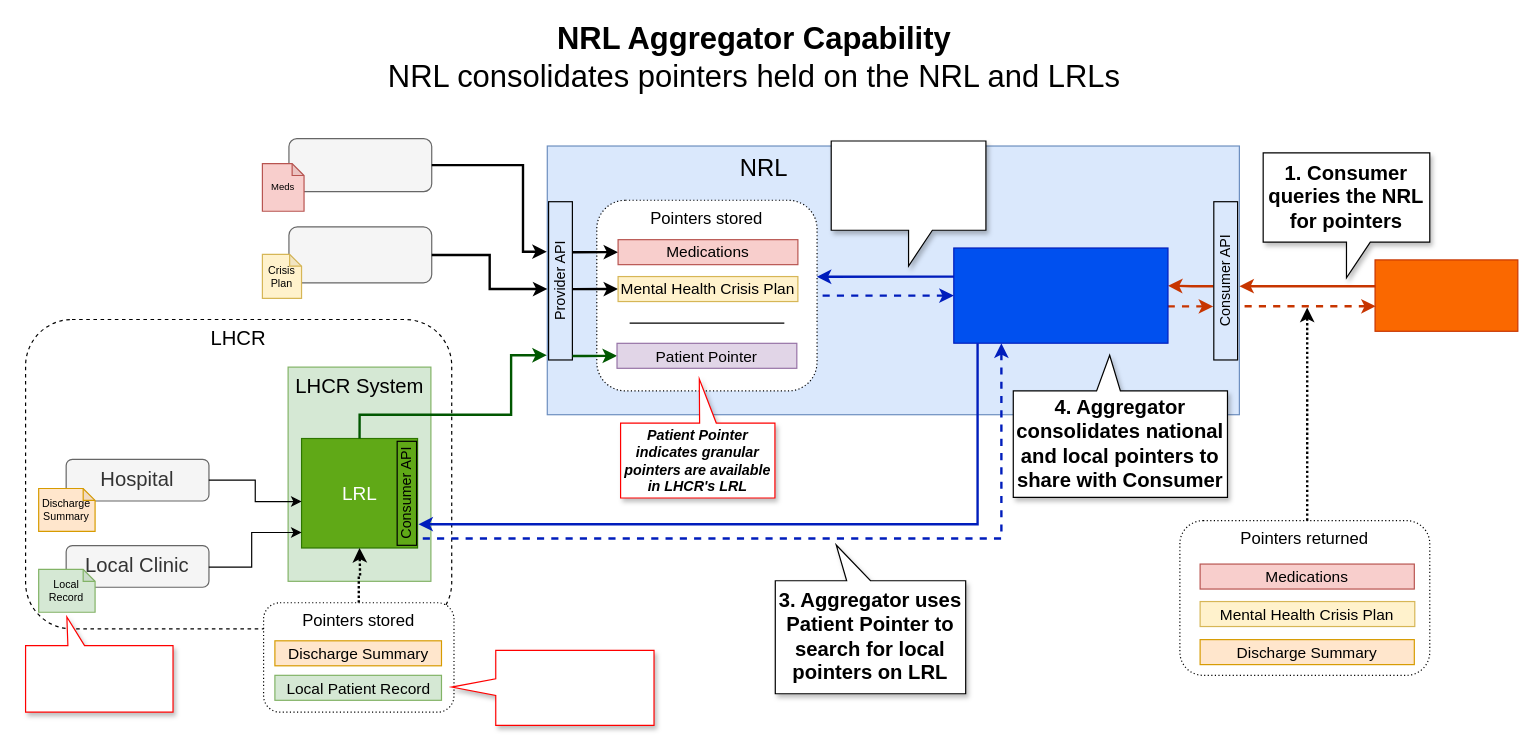
Some shapes in this 1539 by 753 pixel diagram are drawn without their labels. The centre of each missing label's shape, as x and y in pixels:
"2. Aggregator searches the national index" goes at pixel 909 204.
"Aggregator" goes at pixel 1060 295.
"Consumer" goes at pixel 1446 295.
"GP Service" goes at pixel 360 164.
"Local record to be shared within LHCR but not nationally" goes at pixel 100 666.
"Mental Health Service" goes at pixel 360 254.
"Pointer type not supported nationally so not shared with consumers" goes at pixel 553 689.
